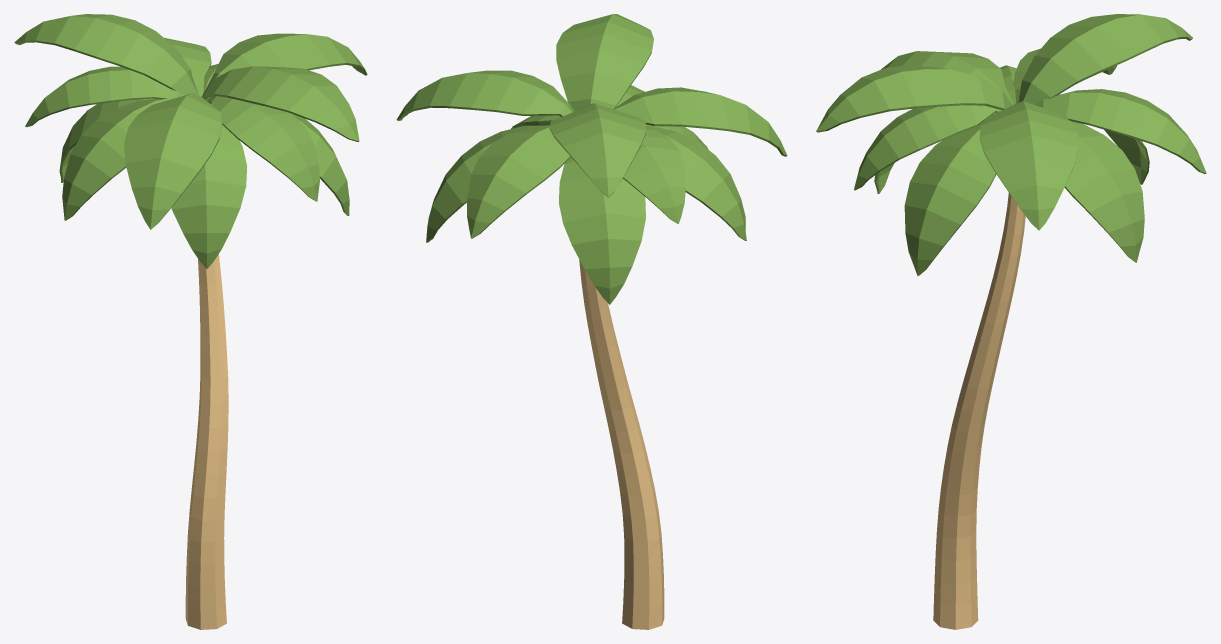
The model's file is Palm_Tree.fbx.
3 renders of one model, left to right at view 1: azimuth 30°, elevation 25°; view 2: azimuth 150°, elevation 25°; view 3: azimuth 270°, elevation 25°, orthographic. The views are drawn at different scales.
Parts seen in each view (by area): view 1: Palm-tree; view 2: Palm-tree; view 3: Palm-tree.
Boxes of the visible parts, <box> form: Palm-tree: <box>14,14,367,629</box>; Palm-tree: <box>396,14,787,629</box>; Palm-tree: <box>816,14,1206,629</box>.
Bounding box in the file's own units: 328 × 540 × 327.
Materials: 1 (1 with a texture image).
